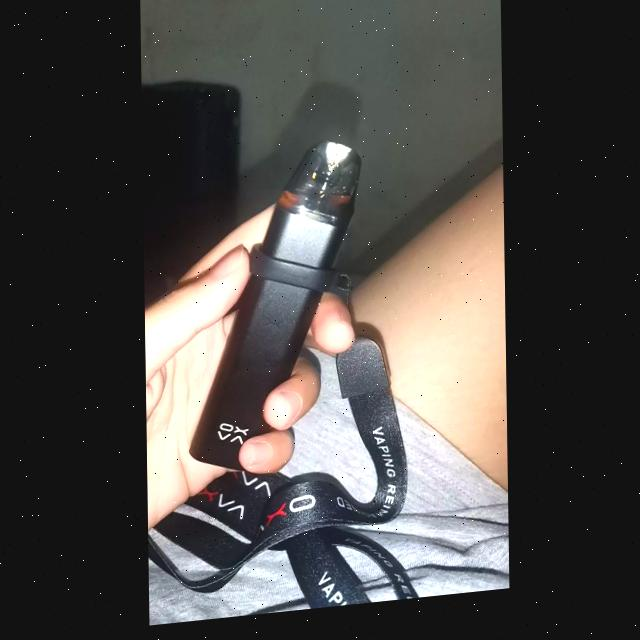vape: (182, 148, 366, 480)
